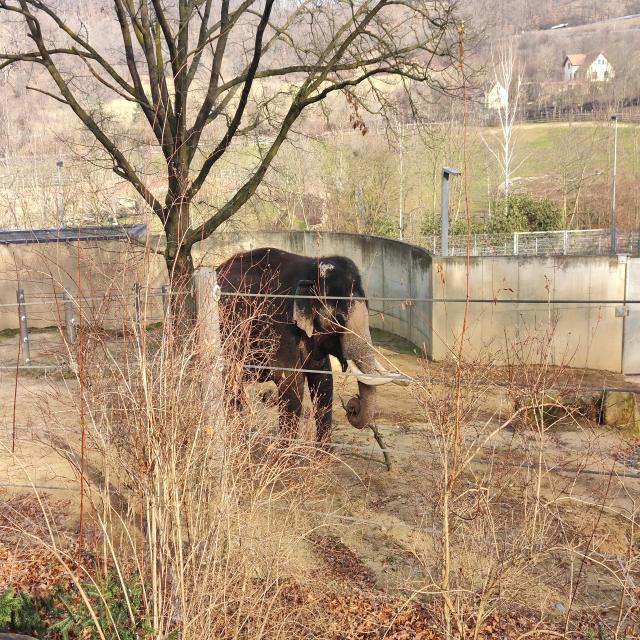elephant: (216, 247, 410, 456)
